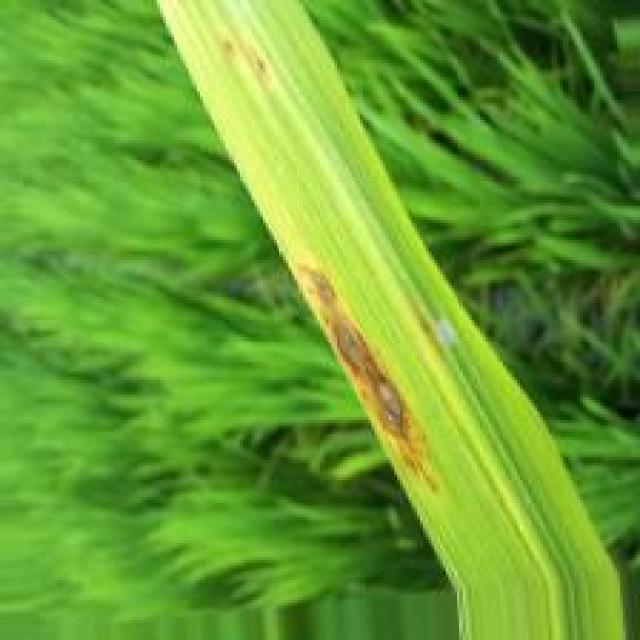Rice Tungro: (290, 253, 442, 500)
